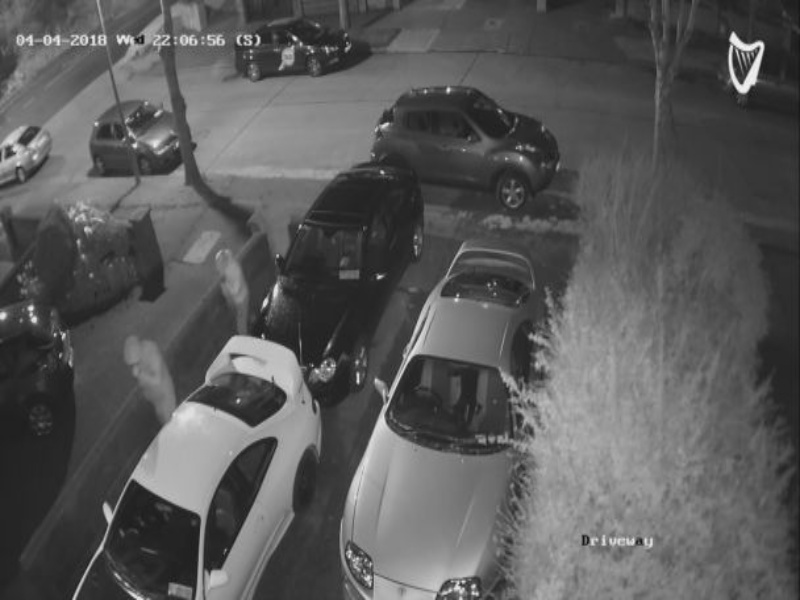car: (328, 233, 590, 600), (63, 328, 337, 600), (230, 155, 426, 413), (365, 77, 569, 211), (87, 96, 192, 179), (229, 18, 360, 83), (1, 122, 57, 189)
person: (108, 327, 185, 435), (208, 244, 260, 345)
